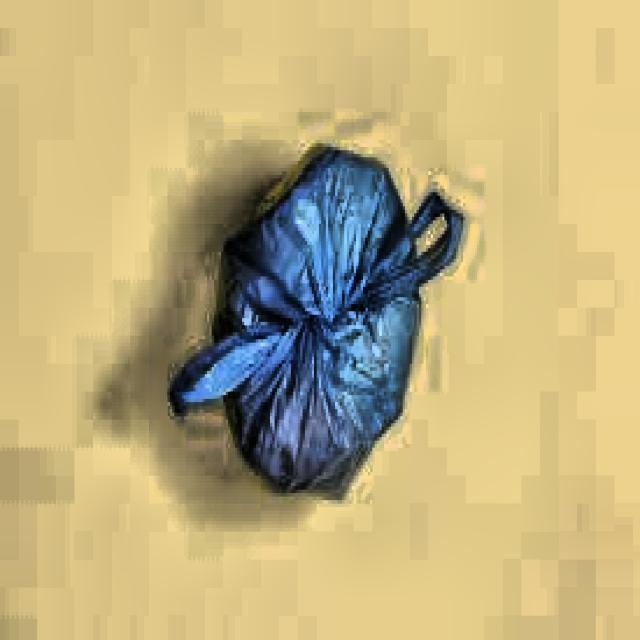Trashbag: (158, 129, 472, 518)
